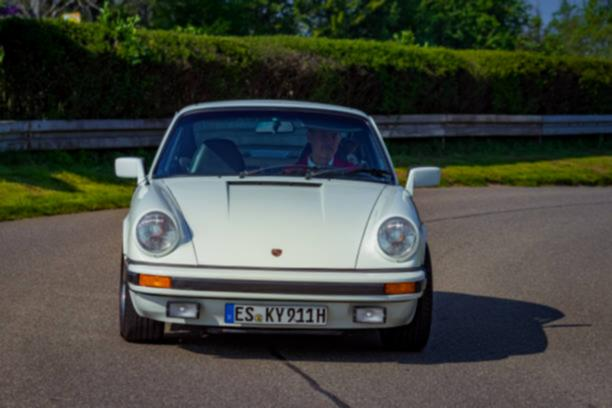porsche: (265, 244, 288, 258)
